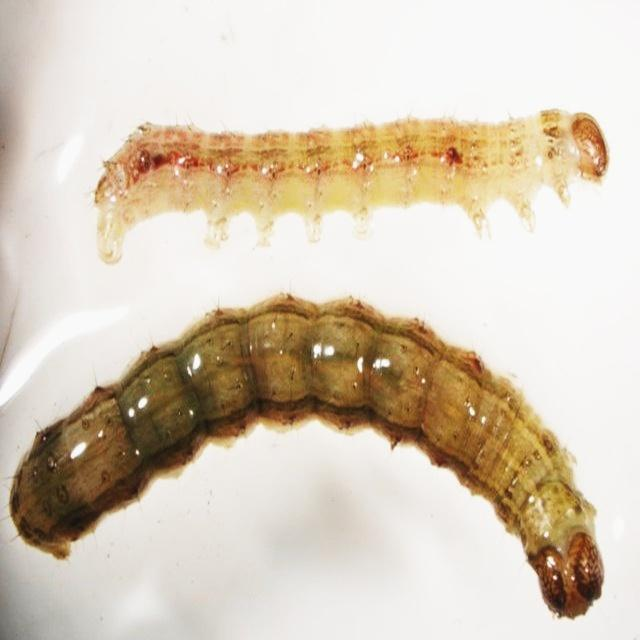gusano_cogollero: (11, 288, 608, 622), (86, 102, 608, 258)
